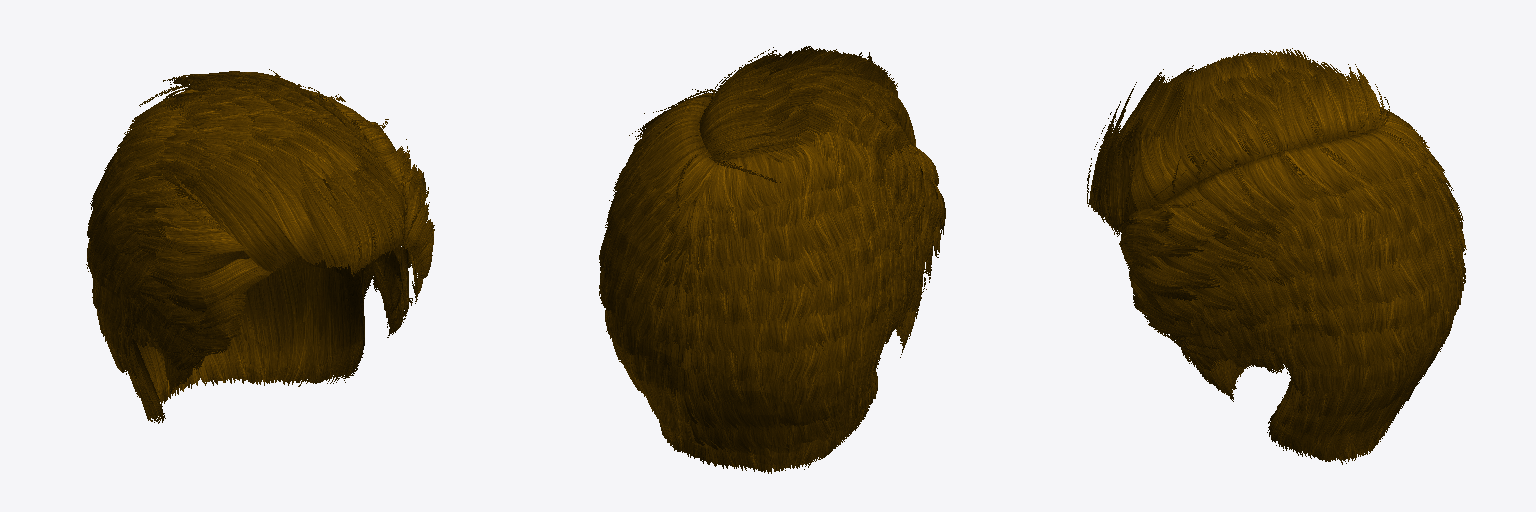
3 views of the same model, side by side, from view 1: azimuth 30°, elevation 25°; view 2: azimuth 150°, elevation 25°; view 3: azimuth 270°, elevation 25° (orthographic).
Parts seen in each view (by area): view 1: Hair_Hair.001; view 2: Hair_Hair.001; view 3: Hair_Hair.001.
Part boxes in pixels (bbox=[...]): Hair_Hair.001: bbox=[86, 69, 434, 423]; Hair_Hair.001: bbox=[599, 46, 945, 473]; Hair_Hair.001: bbox=[1087, 48, 1466, 464].
Size of the model in its own units: 0.1968 by 0.2459 by 0.2312.
Materials: 1 (1 with a texture image).